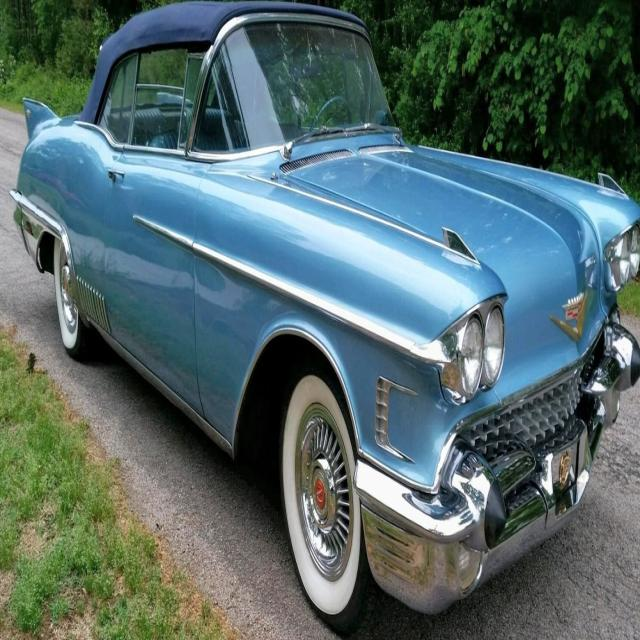blue: (16, 14, 618, 640)
